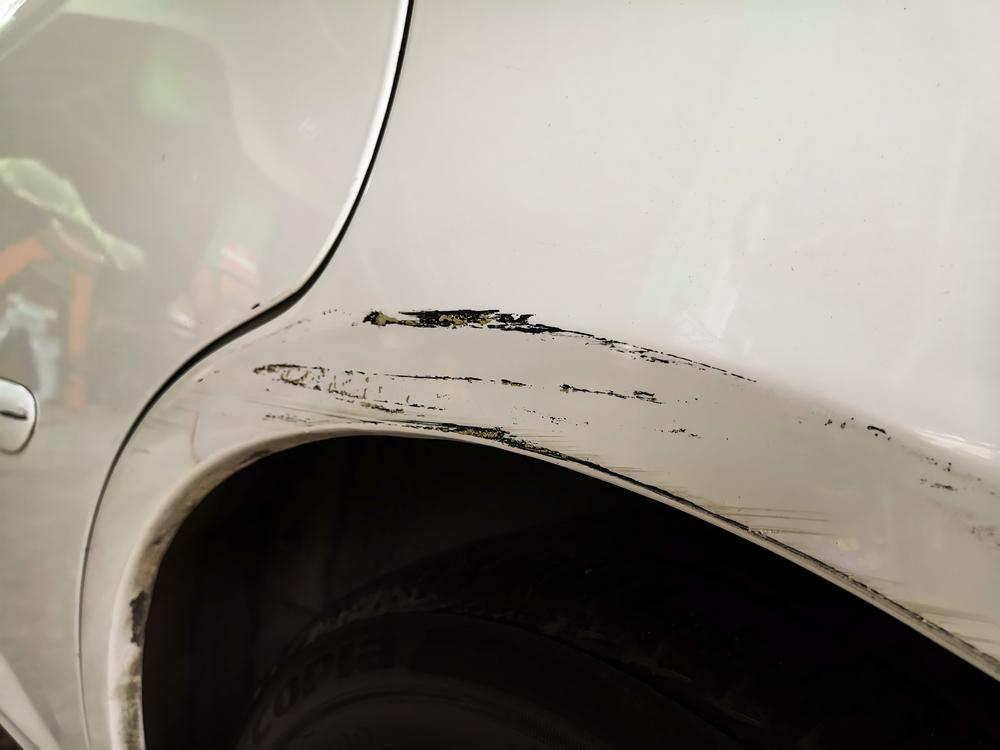scratch: (249, 300, 1000, 674)
